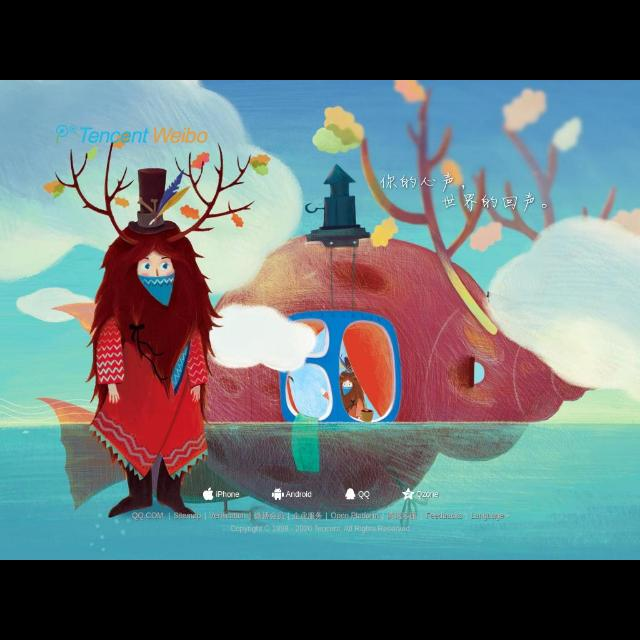backgroundimage: (0, 80, 638, 558)
image: (272, 487, 284, 501), (402, 488, 414, 500), (203, 488, 214, 500), (346, 489, 356, 501)
text: (229, 526, 411, 534), (331, 512, 381, 520), (470, 512, 504, 522), (209, 512, 247, 520), (426, 512, 462, 520), (132, 512, 164, 520), (253, 512, 285, 520), (292, 512, 322, 520), (388, 512, 417, 520), (174, 512, 202, 520), (286, 490, 312, 498), (416, 491, 438, 499), (216, 492, 240, 498), (358, 492, 370, 501)
